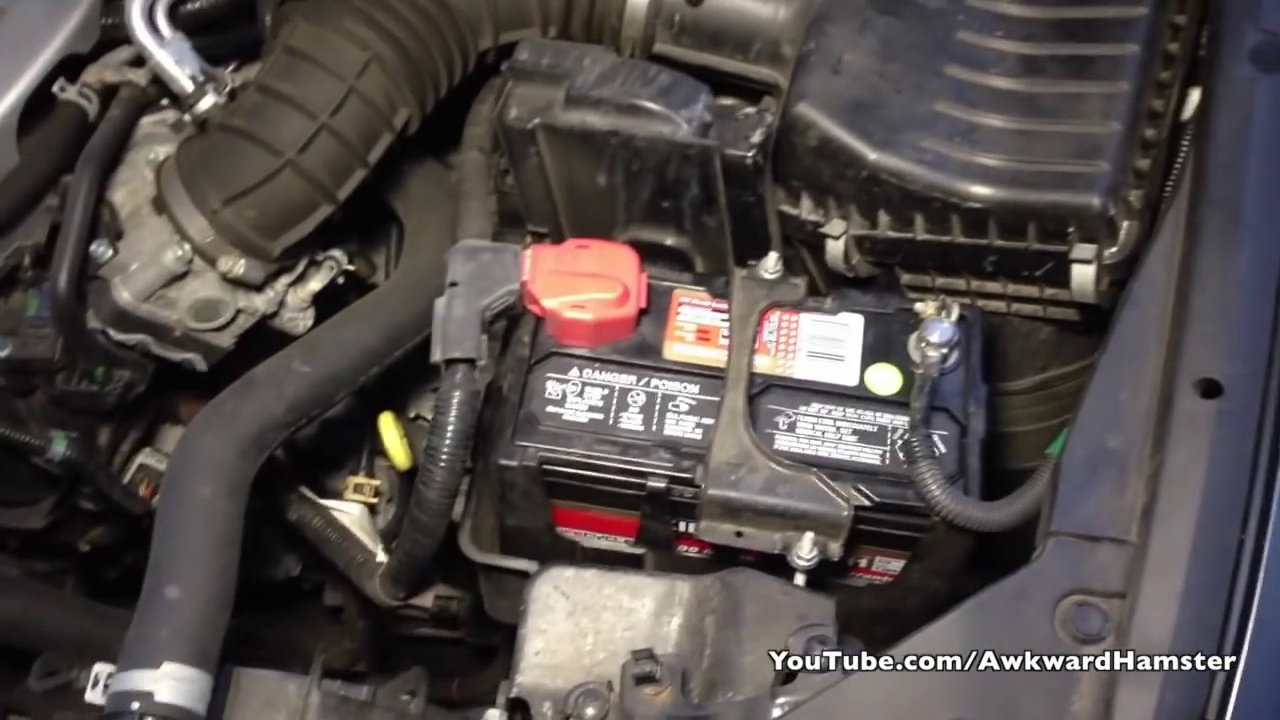battery: (490, 247, 983, 521)
neg_connected: (888, 287, 973, 419)
pos_connected: (483, 225, 668, 346)
